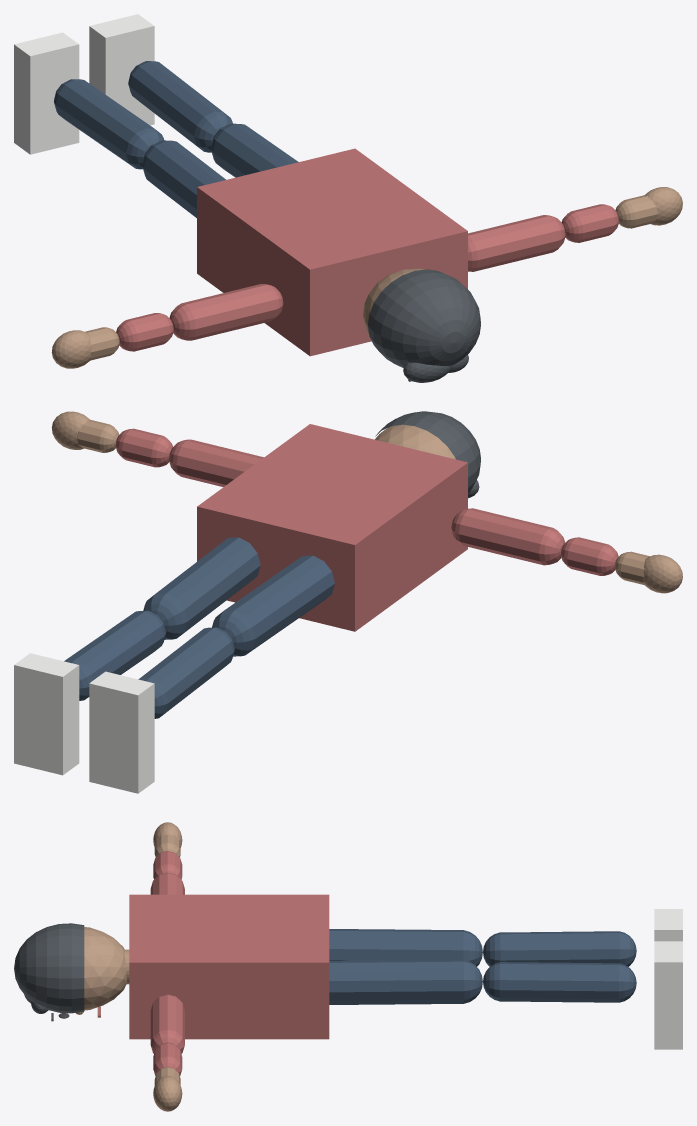
File: char_v3.glb
3 renders of one model, top to bottom at view 1: azimuth 30°, elevation 25°; view 2: azimuth 150°, elevation 25°; view 3: azimuth 270°, elevation 25°, orthographic. The views are drawn at different scales.
Parts seen in each view (by area): view 1: CHAR_AVATAR_VARIANT_003_torso_jacket, CHAR_AVATAR_VARIANT_003_hair_cap, CHAR_AVATAR_VARIANT_003_shoe_L, CHAR_AVATAR_VARIANT_003_shin_L, CHAR_AVATAR_VARIANT_003_shoe_R, CHAR_AVATAR_VARIANT_003_shin_R, CHAR_AVATAR_VARIANT_003_upper_arm_L, CHAR_AVATAR_VARIANT_003_upper_arm_R, CHAR_AVATAR_VARIANT_003_thigh_L, CHAR_AVATAR_VARIANT_003_thigh_R, CHAR_AVATAR_VARIANT_003_forearm_L, CHAR_AVATAR_VARIANT_003_forearm_R (+6 smaller); view 2: CHAR_AVATAR_VARIANT_003_torso_jacket, CHAR_AVATAR_VARIANT_003_shoe_R, CHAR_AVATAR_VARIANT_003_shoe_L, CHAR_AVATAR_VARIANT_003_thigh_L, CHAR_AVATAR_VARIANT_003_thigh_R, CHAR_AVATAR_VARIANT_003_upper_arm_L, CHAR_AVATAR_VARIANT_003_shin_L, CHAR_AVATAR_VARIANT_003_shin_R, CHAR_AVATAR_VARIANT_003_upper_arm_R, CHAR_AVATAR_VARIANT_003_hair_cap, CHAR_AVATAR_VARIANT_003_forearm_L, CHAR_AVATAR_VARIANT_003_forearm_R (+5 smaller); view 3: CHAR_AVATAR_VARIANT_003_torso_jacket, CHAR_AVATAR_VARIANT_003_thigh_R, CHAR_AVATAR_VARIANT_003_shin_R, CHAR_AVATAR_VARIANT_003_hair_cap, CHAR_AVATAR_VARIANT_003_thigh_L, CHAR_AVATAR_VARIANT_003_shin_L, CHAR_AVATAR_VARIANT_003_shoe_R, CHAR_AVATAR_VARIANT_003_head, CHAR_AVATAR_VARIANT_003_upper_arm_R, CHAR_AVATAR_VARIANT_003_shoe_L, CHAR_AVATAR_VARIANT_003_hand_R, CHAR_AVATAR_VARIANT_003_forearm_R (+3 smaller).
Part boxes in pixels (bbox=[...]): CHAR_AVATAR_VARIANT_003_torso_jacket: bbox=[197, 148, 467, 356]; CHAR_AVATAR_VARIANT_003_hair_cap: bbox=[367, 269, 480, 367]; CHAR_AVATAR_VARIANT_003_shoe_L: bbox=[14, 32, 79, 154]; CHAR_AVATAR_VARIANT_003_shin_L: bbox=[54, 79, 163, 169]; CHAR_AVATAR_VARIANT_003_shoe_R: bbox=[89, 14, 154, 125]; CHAR_AVATAR_VARIANT_003_shin_R: bbox=[128, 61, 232, 152]; CHAR_AVATAR_VARIANT_003_upper_arm_L: bbox=[169, 284, 283, 340]; CHAR_AVATAR_VARIANT_003_upper_arm_R: bbox=[468, 215, 565, 271]; CHAR_AVATAR_VARIANT_003_thigh_L: bbox=[142, 140, 225, 217]; CHAR_AVATAR_VARIANT_003_thigh_R: bbox=[211, 123, 298, 177]; CHAR_AVATAR_VARIANT_003_forearm_L: bbox=[116, 313, 173, 351]; CHAR_AVATAR_VARIANT_003_forearm_R: bbox=[561, 204, 618, 242]; CHAR_AVATAR_VARIANT_003_torso_jacket: bbox=[197, 424, 467, 631]; CHAR_AVATAR_VARIANT_003_shoe_R: bbox=[14, 653, 79, 775]; CHAR_AVATAR_VARIANT_003_shoe_L: bbox=[89, 671, 154, 793]; CHAR_AVATAR_VARIANT_003_thigh_L: bbox=[212, 555, 334, 656]; CHAR_AVATAR_VARIANT_003_thigh_R: bbox=[143, 537, 260, 639]; CHAR_AVATAR_VARIANT_003_upper_arm_L: bbox=[451, 508, 565, 565]; CHAR_AVATAR_VARIANT_003_shin_L: bbox=[138, 627, 234, 718]; CHAR_AVATAR_VARIANT_003_shin_R: bbox=[64, 610, 165, 700]; CHAR_AVATAR_VARIANT_003_upper_arm_R: bbox=[169, 439, 263, 486]; CHAR_AVATAR_VARIANT_003_hair_cap: bbox=[375, 411, 480, 493]; CHAR_AVATAR_VARIANT_003_forearm_L: bbox=[561, 537, 618, 575]; CHAR_AVATAR_VARIANT_003_forearm_R: bbox=[115, 428, 172, 467]; CHAR_AVATAR_VARIANT_003_torso_jacket: bbox=[129, 894, 329, 1039]; CHAR_AVATAR_VARIANT_003_thigh_R: bbox=[329, 959, 482, 1004]; CHAR_AVATAR_VARIANT_003_shin_R: bbox=[483, 962, 636, 1002]; CHAR_AVATAR_VARIANT_003_hair_cap: bbox=[14, 923, 84, 1013]; CHAR_AVATAR_VARIANT_003_thigh_L: bbox=[329, 929, 482, 966]; CHAR_AVATAR_VARIANT_003_shin_L: bbox=[483, 931, 636, 966]; CHAR_AVATAR_VARIANT_003_shoe_R: bbox=[654, 941, 682, 1049]; CHAR_AVATAR_VARIANT_003_head: bbox=[84, 927, 127, 1010]; CHAR_AVATAR_VARIANT_003_upper_arm_R: bbox=[150, 994, 184, 1053]; CHAR_AVATAR_VARIANT_003_shoe_L: bbox=[654, 909, 682, 941]; CHAR_AVATAR_VARIANT_003_hand_R: bbox=[153, 1075, 182, 1111]; CHAR_AVATAR_VARIANT_003_forearm_R: bbox=[153, 1043, 182, 1075].
Size of the model in its own units: 1.65 by 0.2672 by 1.72.
